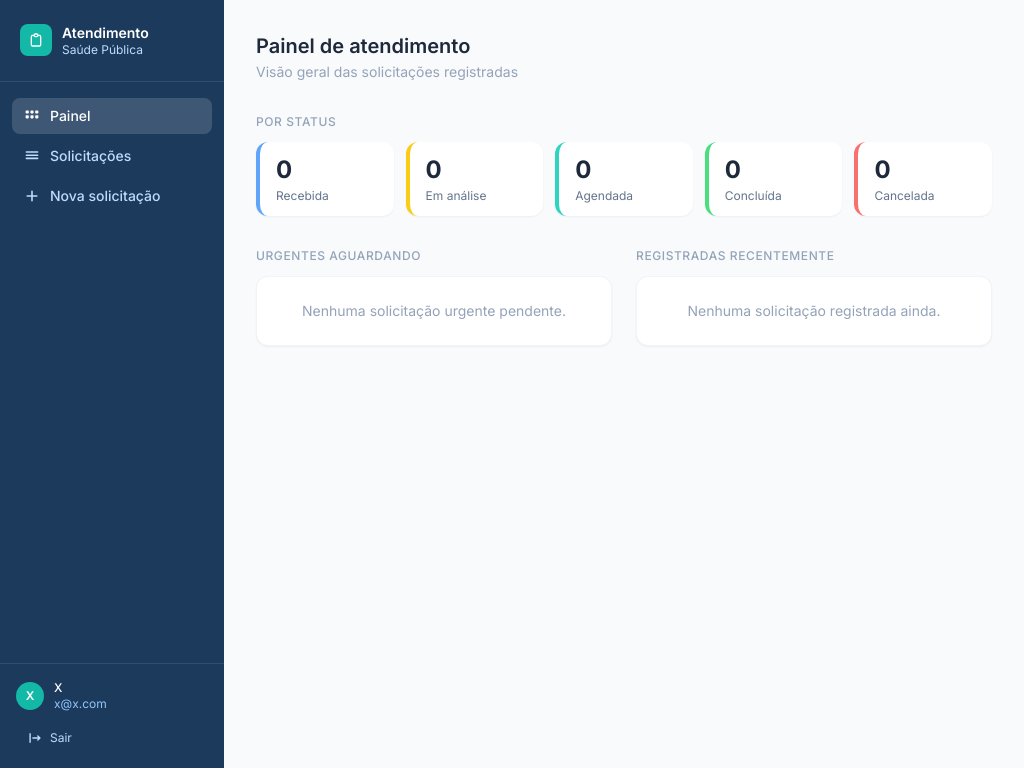
Test: App — fluxo de autenticação › volta para login após logout
Expected: the heading "Painel de atendimento" is shown, 256,34 -> 470,58
Click the button "Sair" at [112, 738], box 16,724 -> 208,752
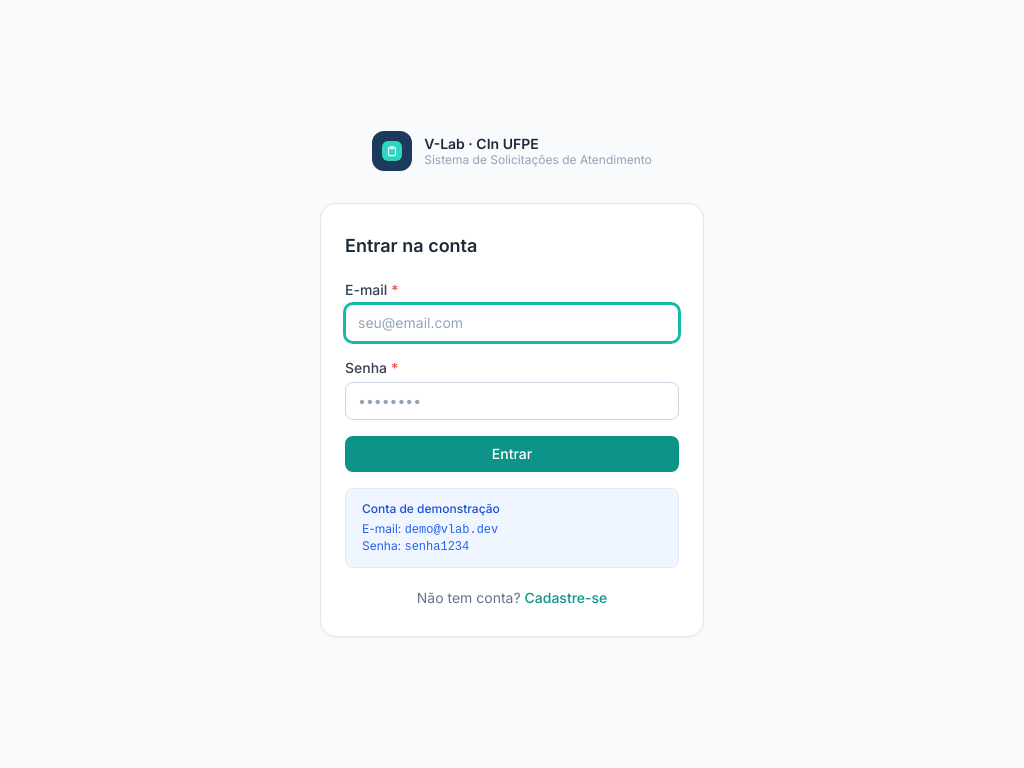
Expected: the heading "Entrar na conta" is shown, 345,235 -> 477,256
